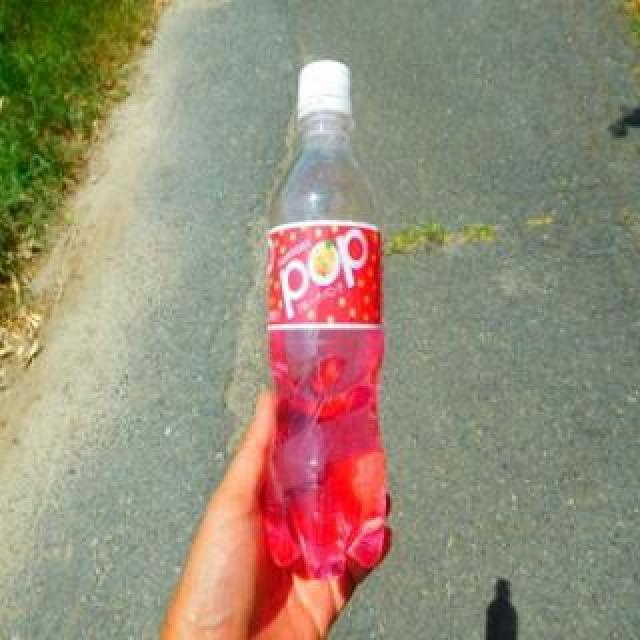Pet_Bottle: (256, 57, 392, 583)
